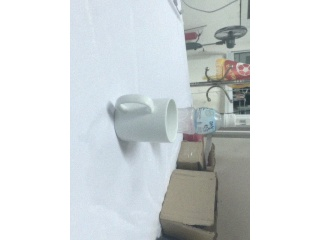bottle: (177, 107, 247, 135)
box: (160, 169, 218, 240), (175, 139, 208, 167)
cup: (114, 93, 178, 143)
